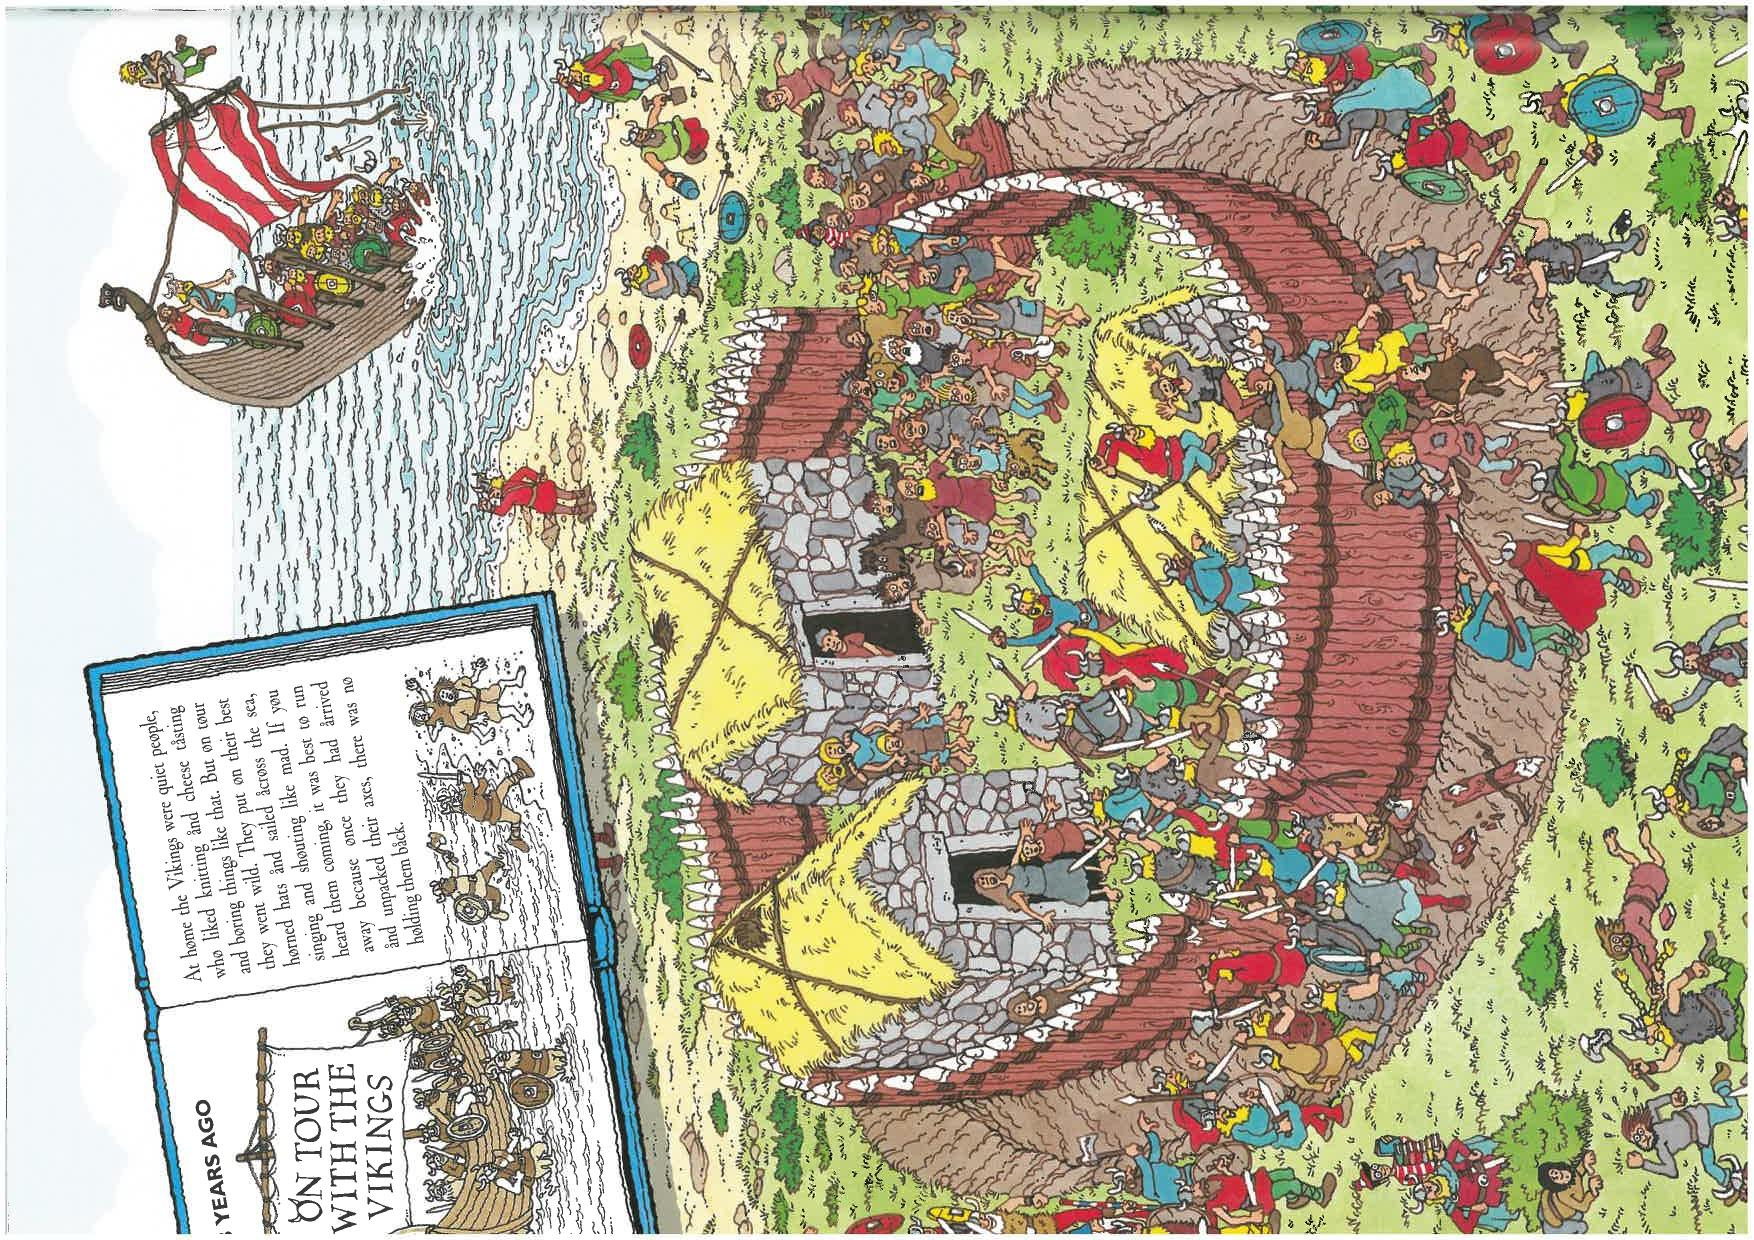waldos: (1347, 1134, 1448, 1193)
